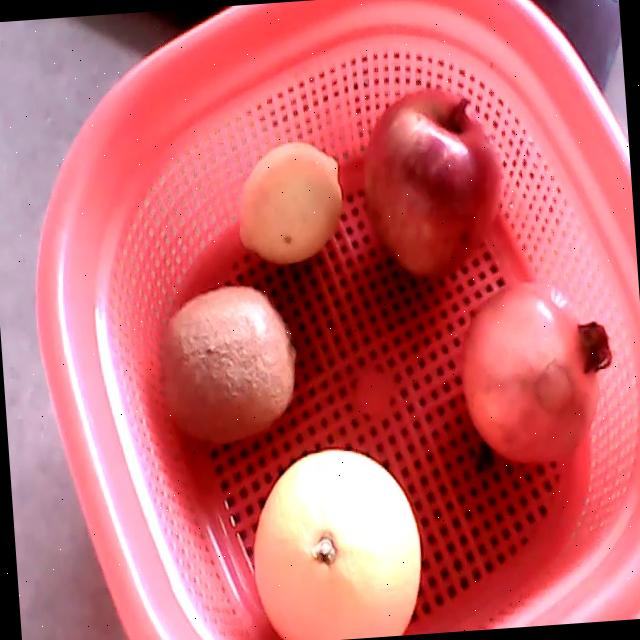apple: (364, 87, 503, 276)
kiwi: (156, 286, 295, 446)
lemon: (239, 141, 341, 263)
orange: (253, 447, 424, 640)
pomegranate: (459, 280, 612, 464)
